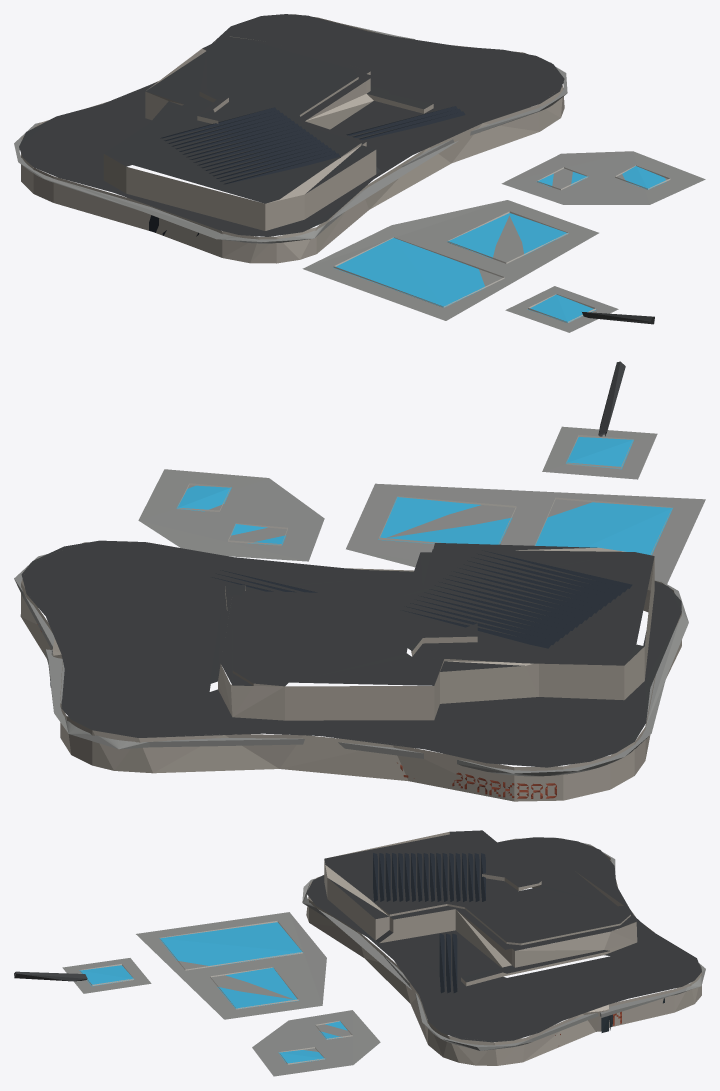
File: noorderparkbad.lod1.glb
The picture shows the model from 3 angles, top to bottom: view 1: azimuth 30°, elevation 25°; view 2: azimuth 150°, elevation 25°; view 3: azimuth 270°, elevation 25°; orthographic projection. The views are drawn at different scales.
Parts seen in each view (by area): view 1: noorderparkbad; view 2: noorderparkbad; view 3: noorderparkbad.
Part boxes in pixels (box(x1,y1,x2,y2)): noorderparkbad: box(14, 14, 705, 332); noorderparkbad: box(14, 361, 705, 801); noorderparkbad: box(14, 830, 705, 1076).
Size of the model in its own units: 102 by 11.04 by 136.
